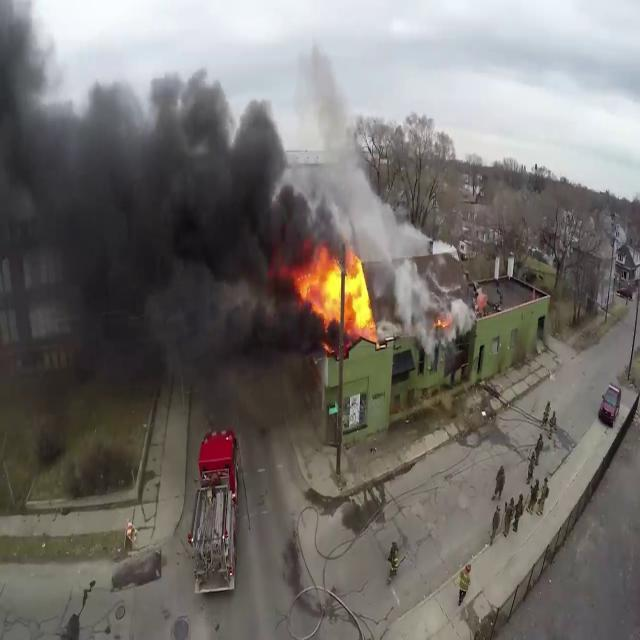Fire: (292, 244, 376, 339)
Smoke: (0, 16, 316, 478), (320, 120, 444, 358)
